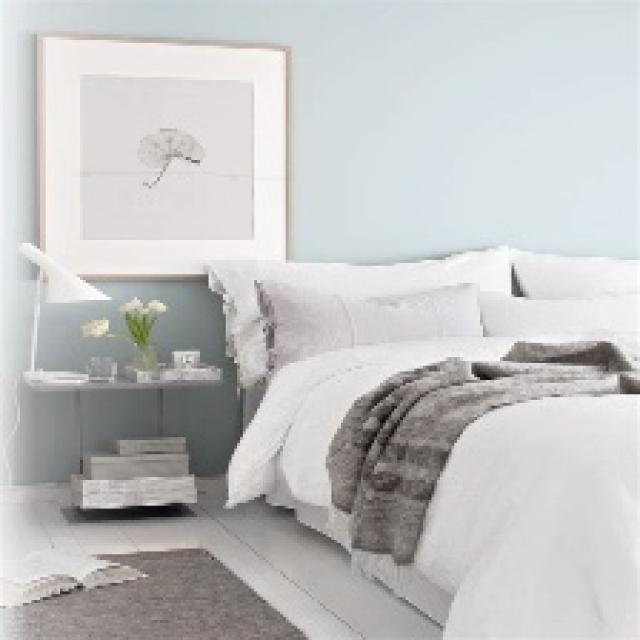Bed: (206, 243, 637, 637)
